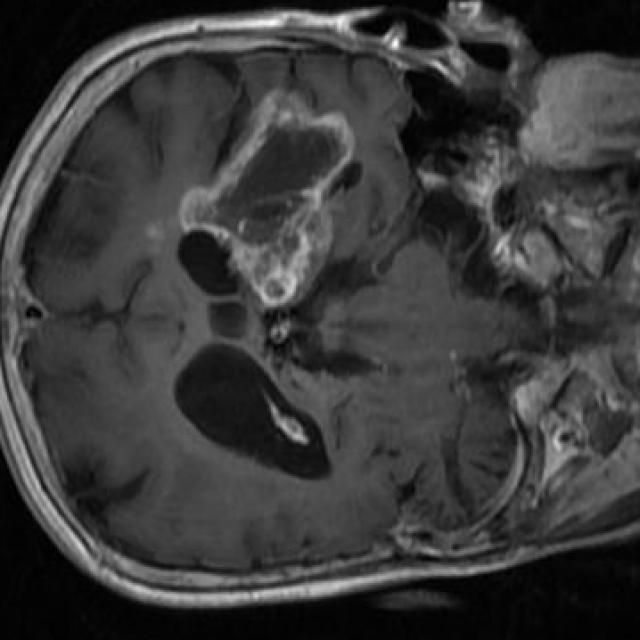glioma: (178, 89, 355, 310)
